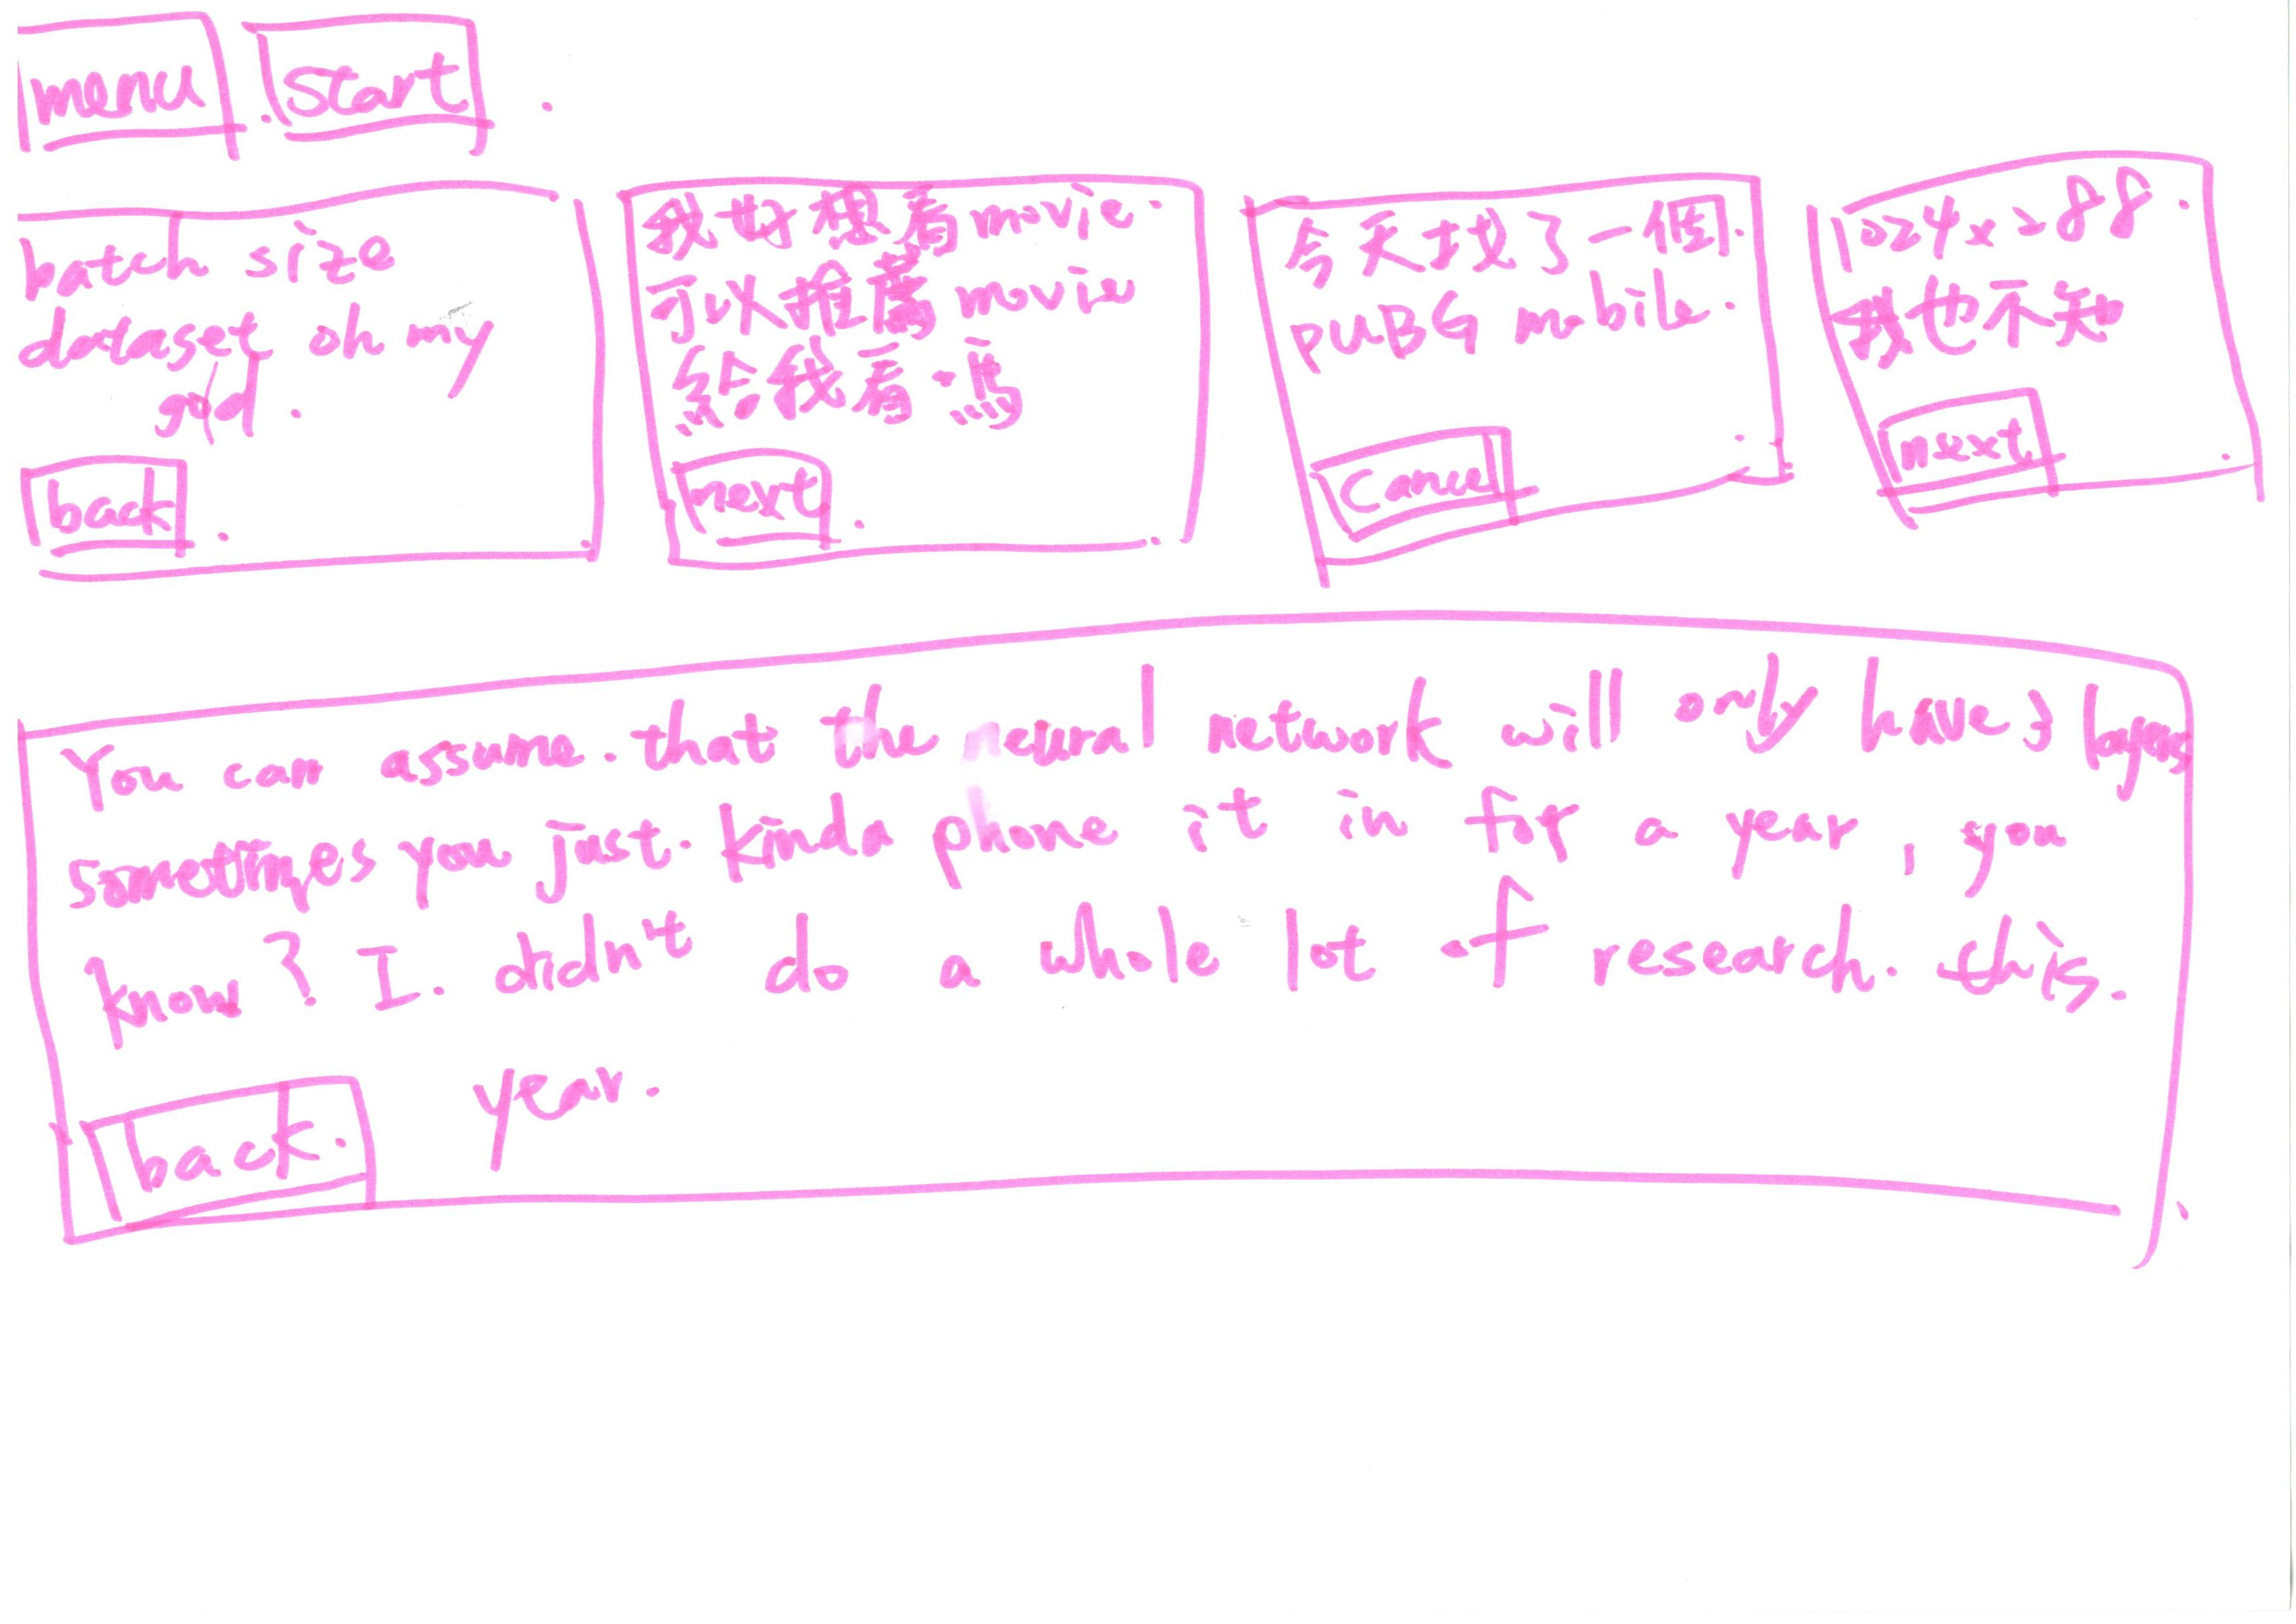back: (69, 1065, 392, 1227), (11, 445, 223, 575)
cancel: (1297, 417, 1547, 545)
menu: (0, 11, 253, 169)
next: (658, 443, 868, 575), (1862, 378, 2073, 510)
quadruple: (0, 179, 608, 603), (619, 158, 1227, 582), (1211, 151, 1820, 575), (1800, 153, 2296, 575)
row: (12, 601, 2296, 1283), (12, 132, 2296, 592), (0, 11, 2284, 148)
single: (19, 619, 2224, 1267)
small-title: (640, 195, 946, 420), (1844, 183, 2164, 264), (1266, 202, 1733, 255), (19, 232, 399, 295)
start: (241, 0, 522, 155)
text: (62, 645, 2213, 1095), (32, 301, 519, 424), (958, 202, 1167, 446), (1311, 285, 1737, 390), (1858, 260, 2145, 360)
